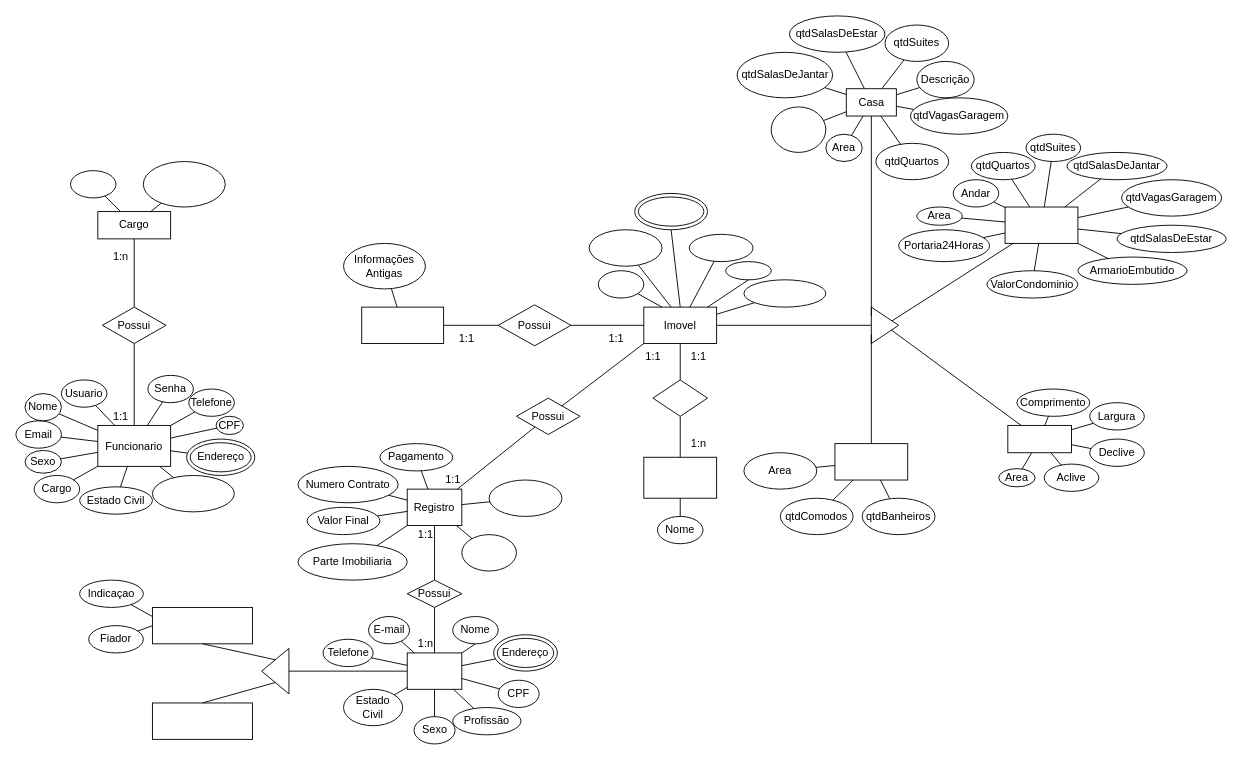
Image size: 1242x760. Some labels were removed from this diagram. The shapes that lost their labels are listed below. From the top down, each one's centre as x and y in pixels, then its label:
[798,129]: Armario Embutido
[93,184]: Salario
[183,184]: Cargo Empresa
[671,211]: Endereço Completo
[1041,224]: Apartamento
[625,247]: Data Construção
[720,247]: Valor Inicial
[620,284]: Status
[748,270]: Fotos
[784,293]: DataAnuncio
[402,325]: Histórico
[680,397]: Tem
[1039,439]: Terreno
[680,477]: Categoria
[871,461]: Sala Comercial
[193,493]: DataIngressão
[525,497]: Data Transação
[488,552]: Data Venda
[202,625]: Cliente Usuario
[434,670]: Cliente
[202,720]: Cliente Proprietario
